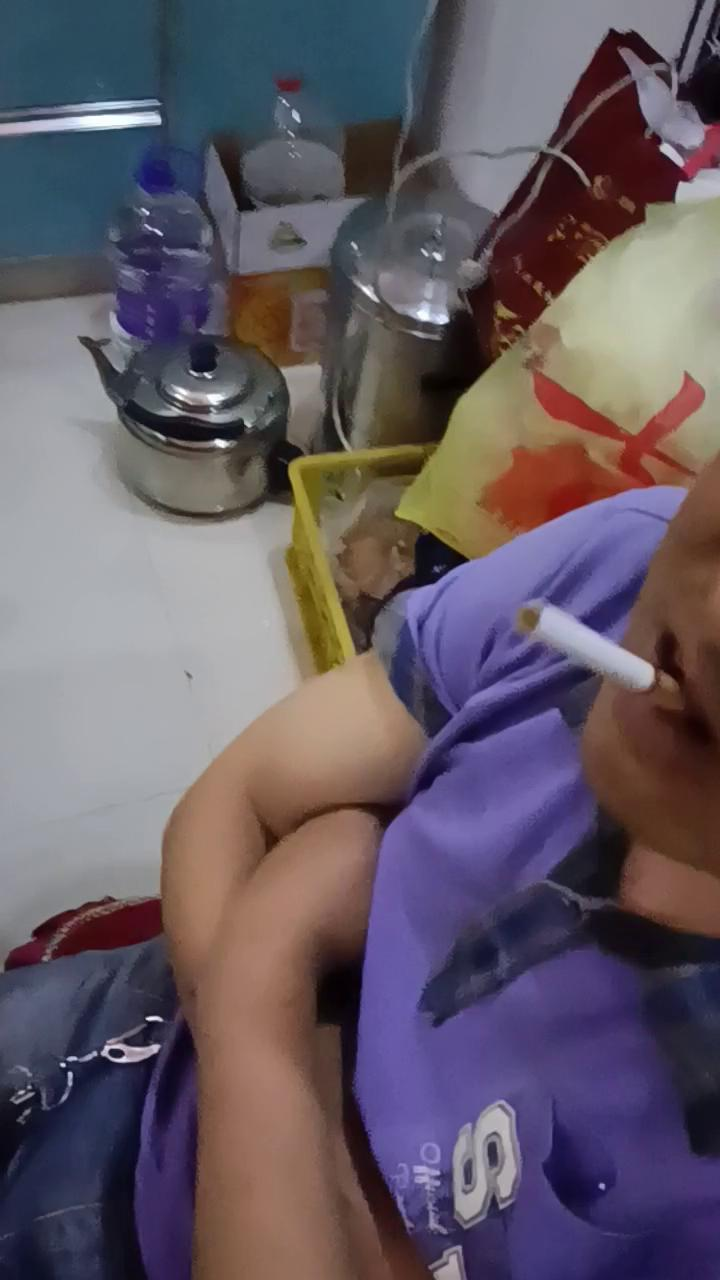smoke: (519, 600, 688, 720)
